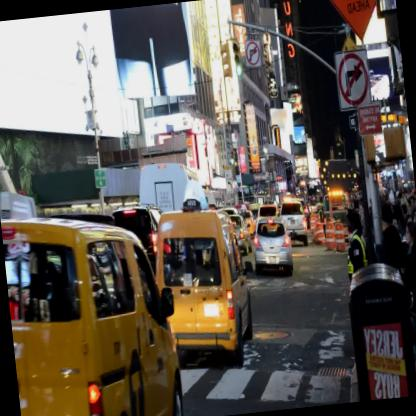car: (0, 202, 187, 415), (148, 205, 258, 375), (250, 216, 294, 278), (278, 198, 309, 247)
